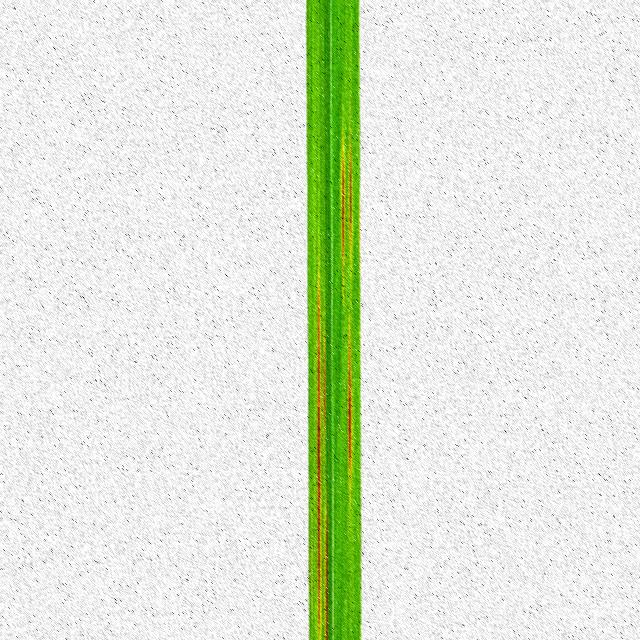NBS: (317, 290, 320, 632), (348, 344, 351, 486), (341, 149, 344, 280), (325, 517, 328, 640), (349, 149, 352, 245), (323, 344, 326, 429)
